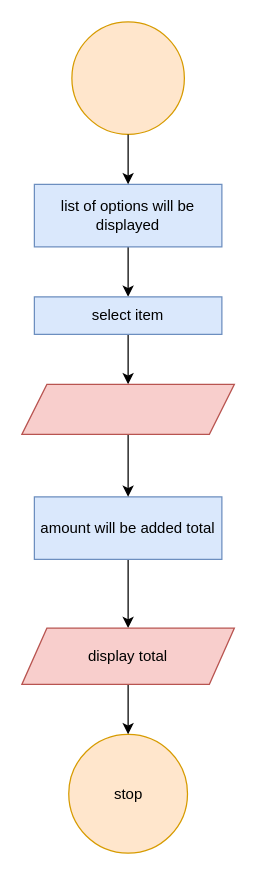
Some shapes in this 256 by 875 pixel diagram are drawn without their labels. The centre of each missing label's shape, as x and y in pixels:
click on add to cart: point 127,408
start: point 127,77
